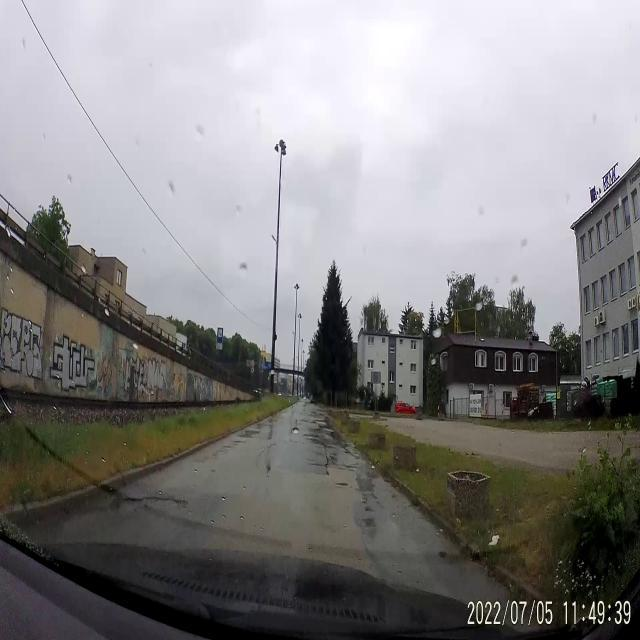Pothole: (100, 492, 188, 518), (361, 513, 377, 530), (334, 478, 349, 490), (228, 438, 246, 446)
